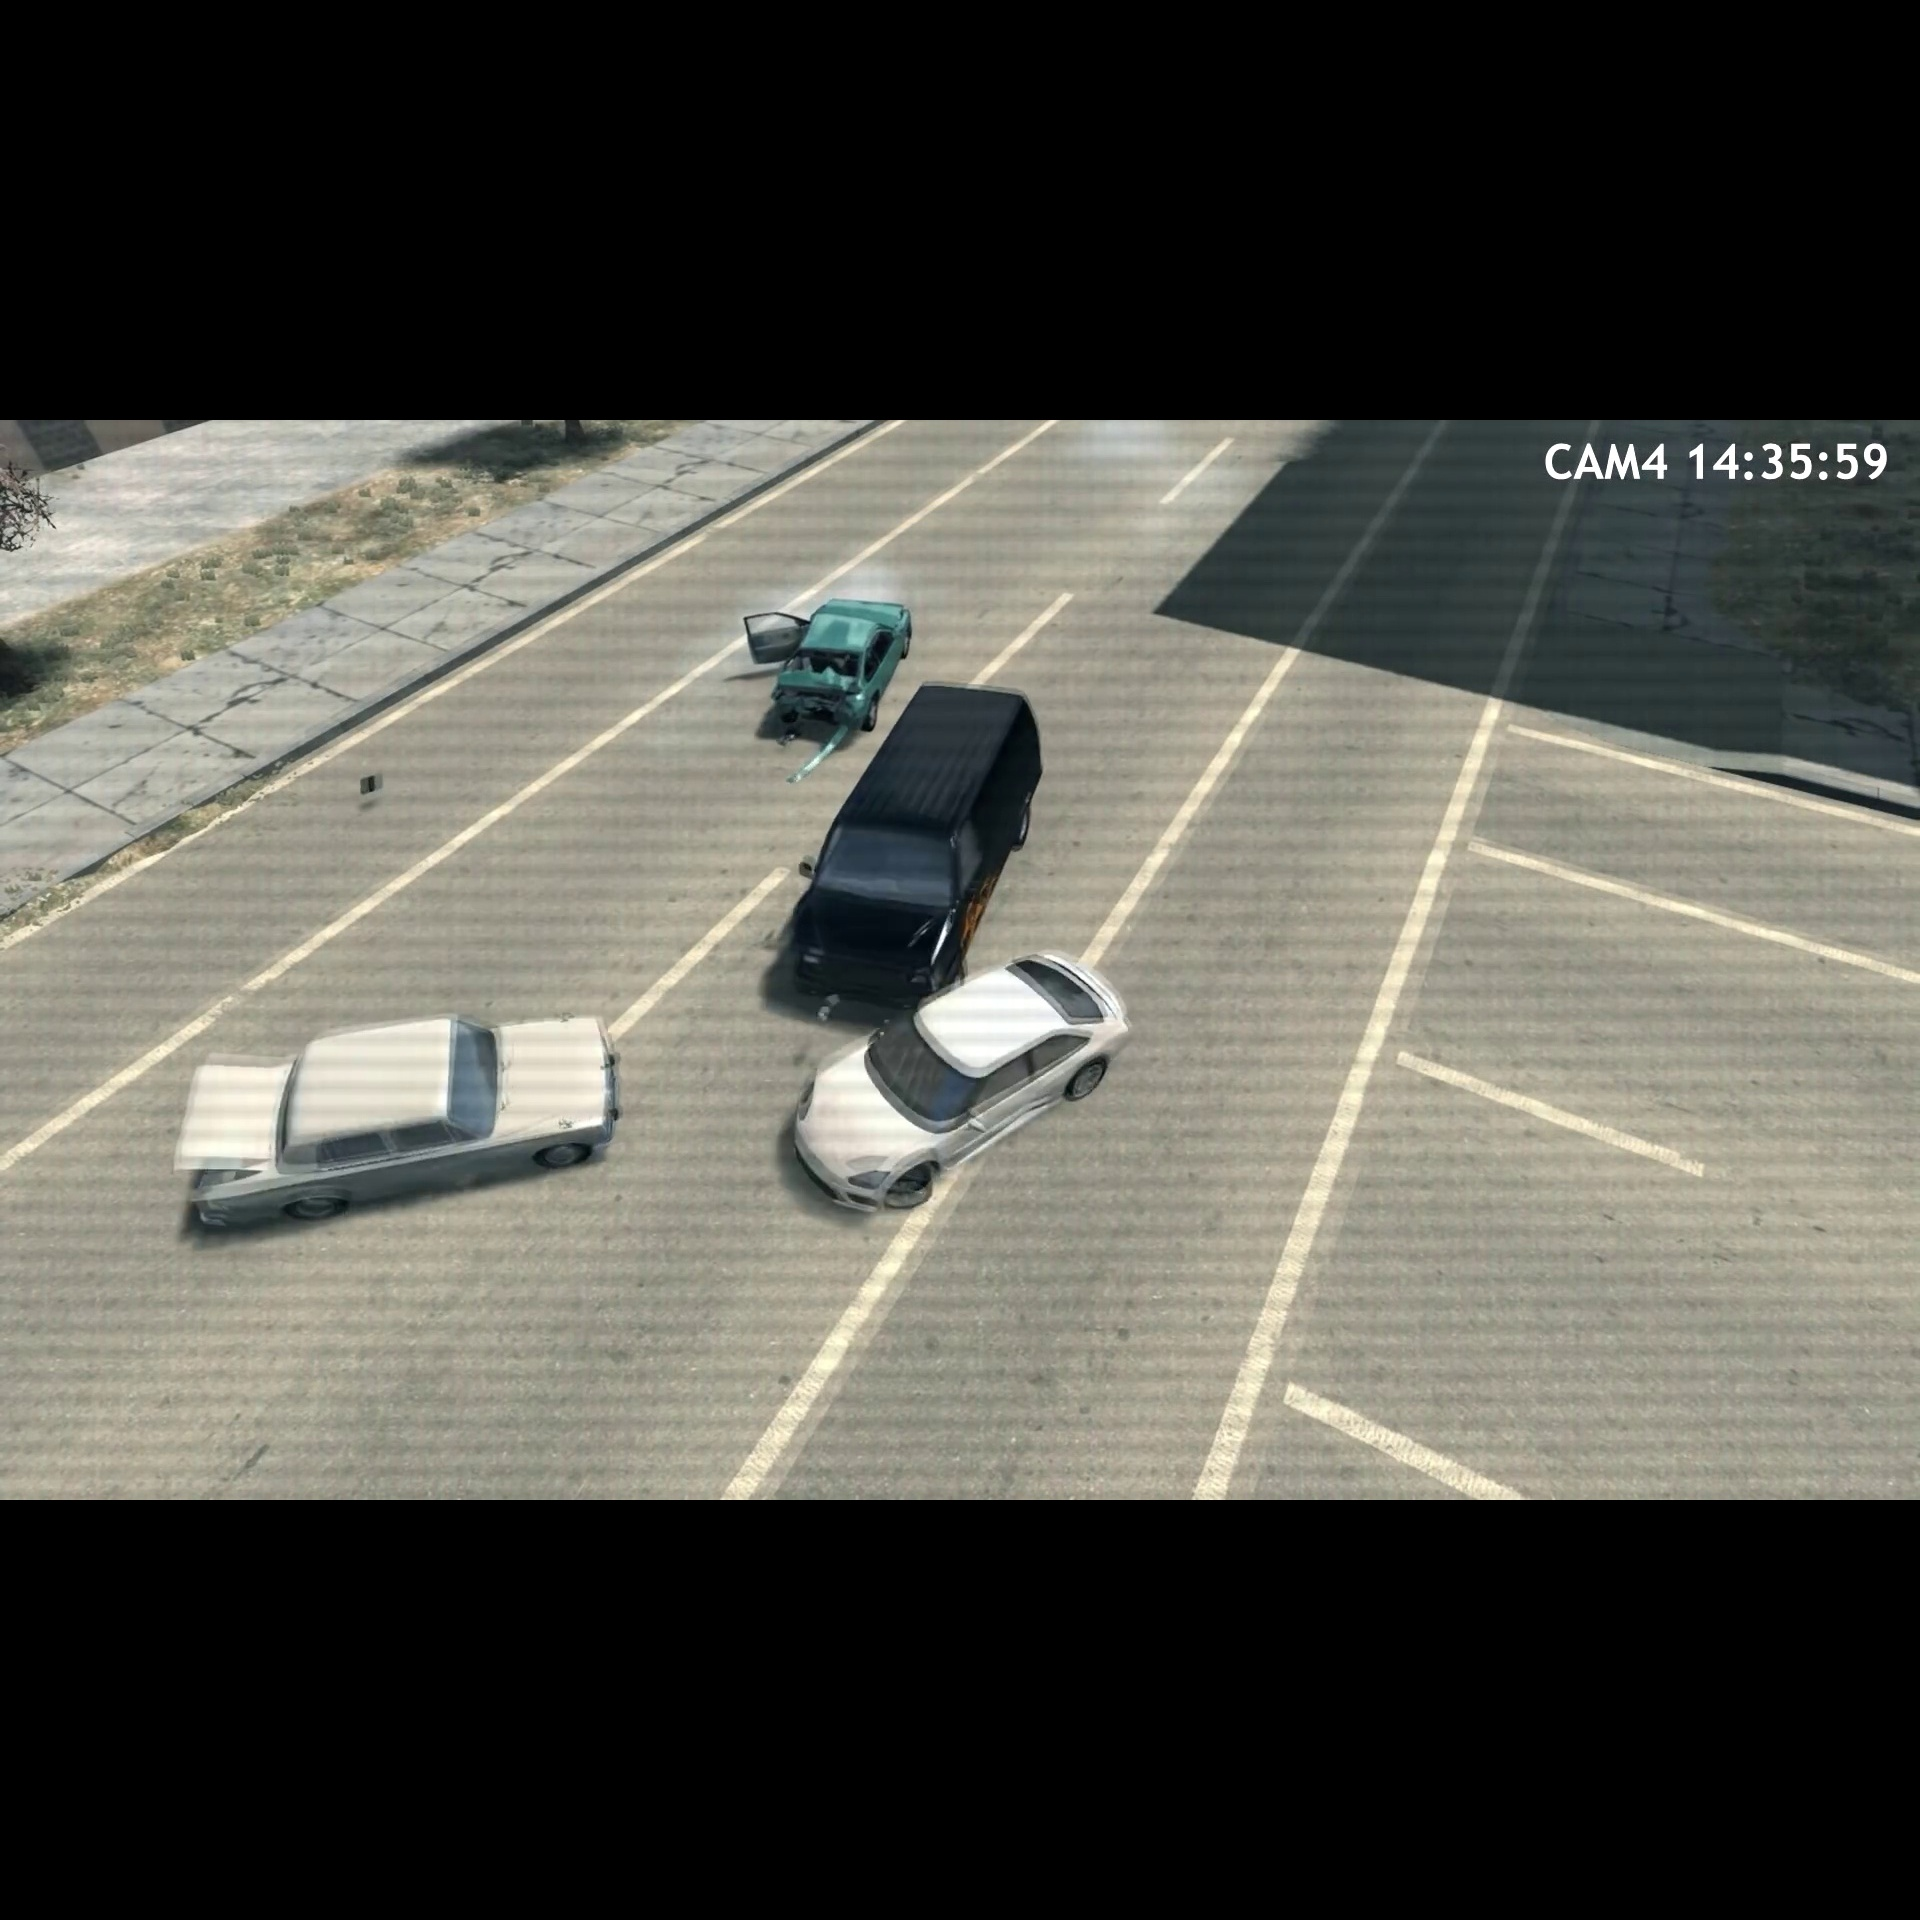vehicle: (155, 995, 642, 1245), (777, 948, 1143, 1224), (781, 668, 1055, 1009), (742, 585, 918, 738)
